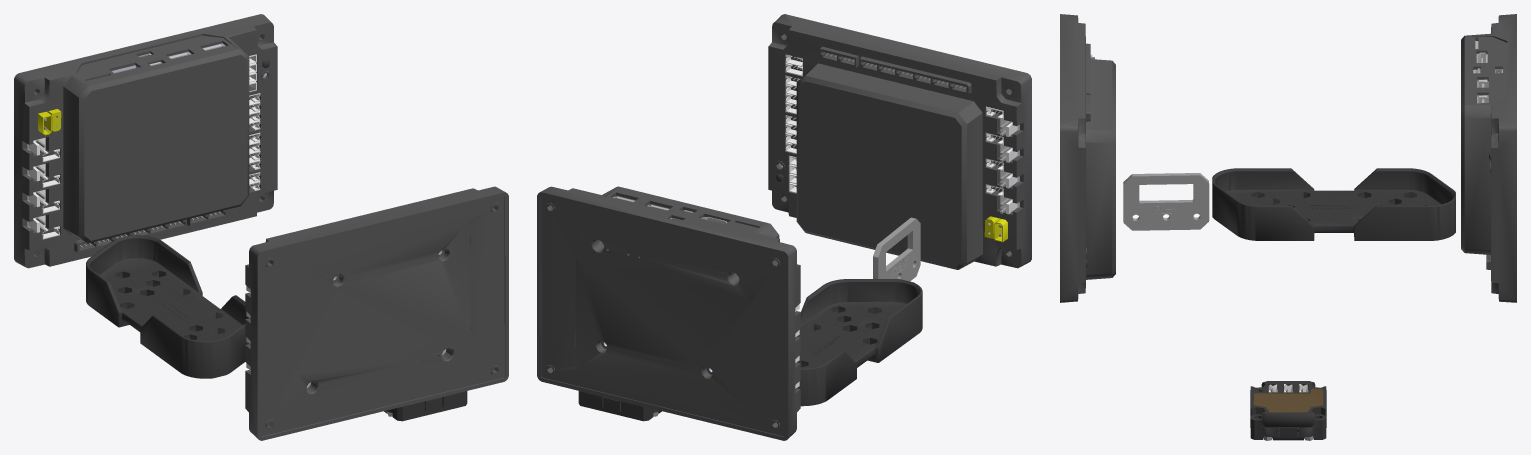
Rendered from electronics.glb.
3 renders of one model, left to right at view 1: azimuth 30°, elevation 25°; view 2: azimuth 150°, elevation 25°; view 3: azimuth 270°, elevation 25°, orthographic. The views are drawn at different scales.
Parts seen in each view (by area): view 1: part-182, part-110, part-72, part-66; view 2: part-110, part-182, part-72, part-8, part-66; view 3: part-72, part-182, part-110, part-66, part-8.
Part boxes in pixels (box(x1,y1,x2,y2)): part-182: box(245, 186, 508, 440); part-110: box(14, 14, 277, 268); part-72: box(86, 235, 250, 378); part-66: box(384, 391, 467, 421); part-110: box(537, 186, 800, 440); part-182: box(768, 14, 1031, 269); part-72: box(795, 279, 922, 406); part-8: box(873, 217, 920, 281); part-66: box(578, 391, 661, 421); part-72: box(1212, 168, 1455, 240); part-182: box(1060, 14, 1115, 302); part-110: box(1461, 14, 1516, 302); part-66: box(1250, 381, 1326, 440); part-8: box(1123, 173, 1209, 230).
Bounding box in the file's own units: 0.1795 × 0.165 × 0.24.
